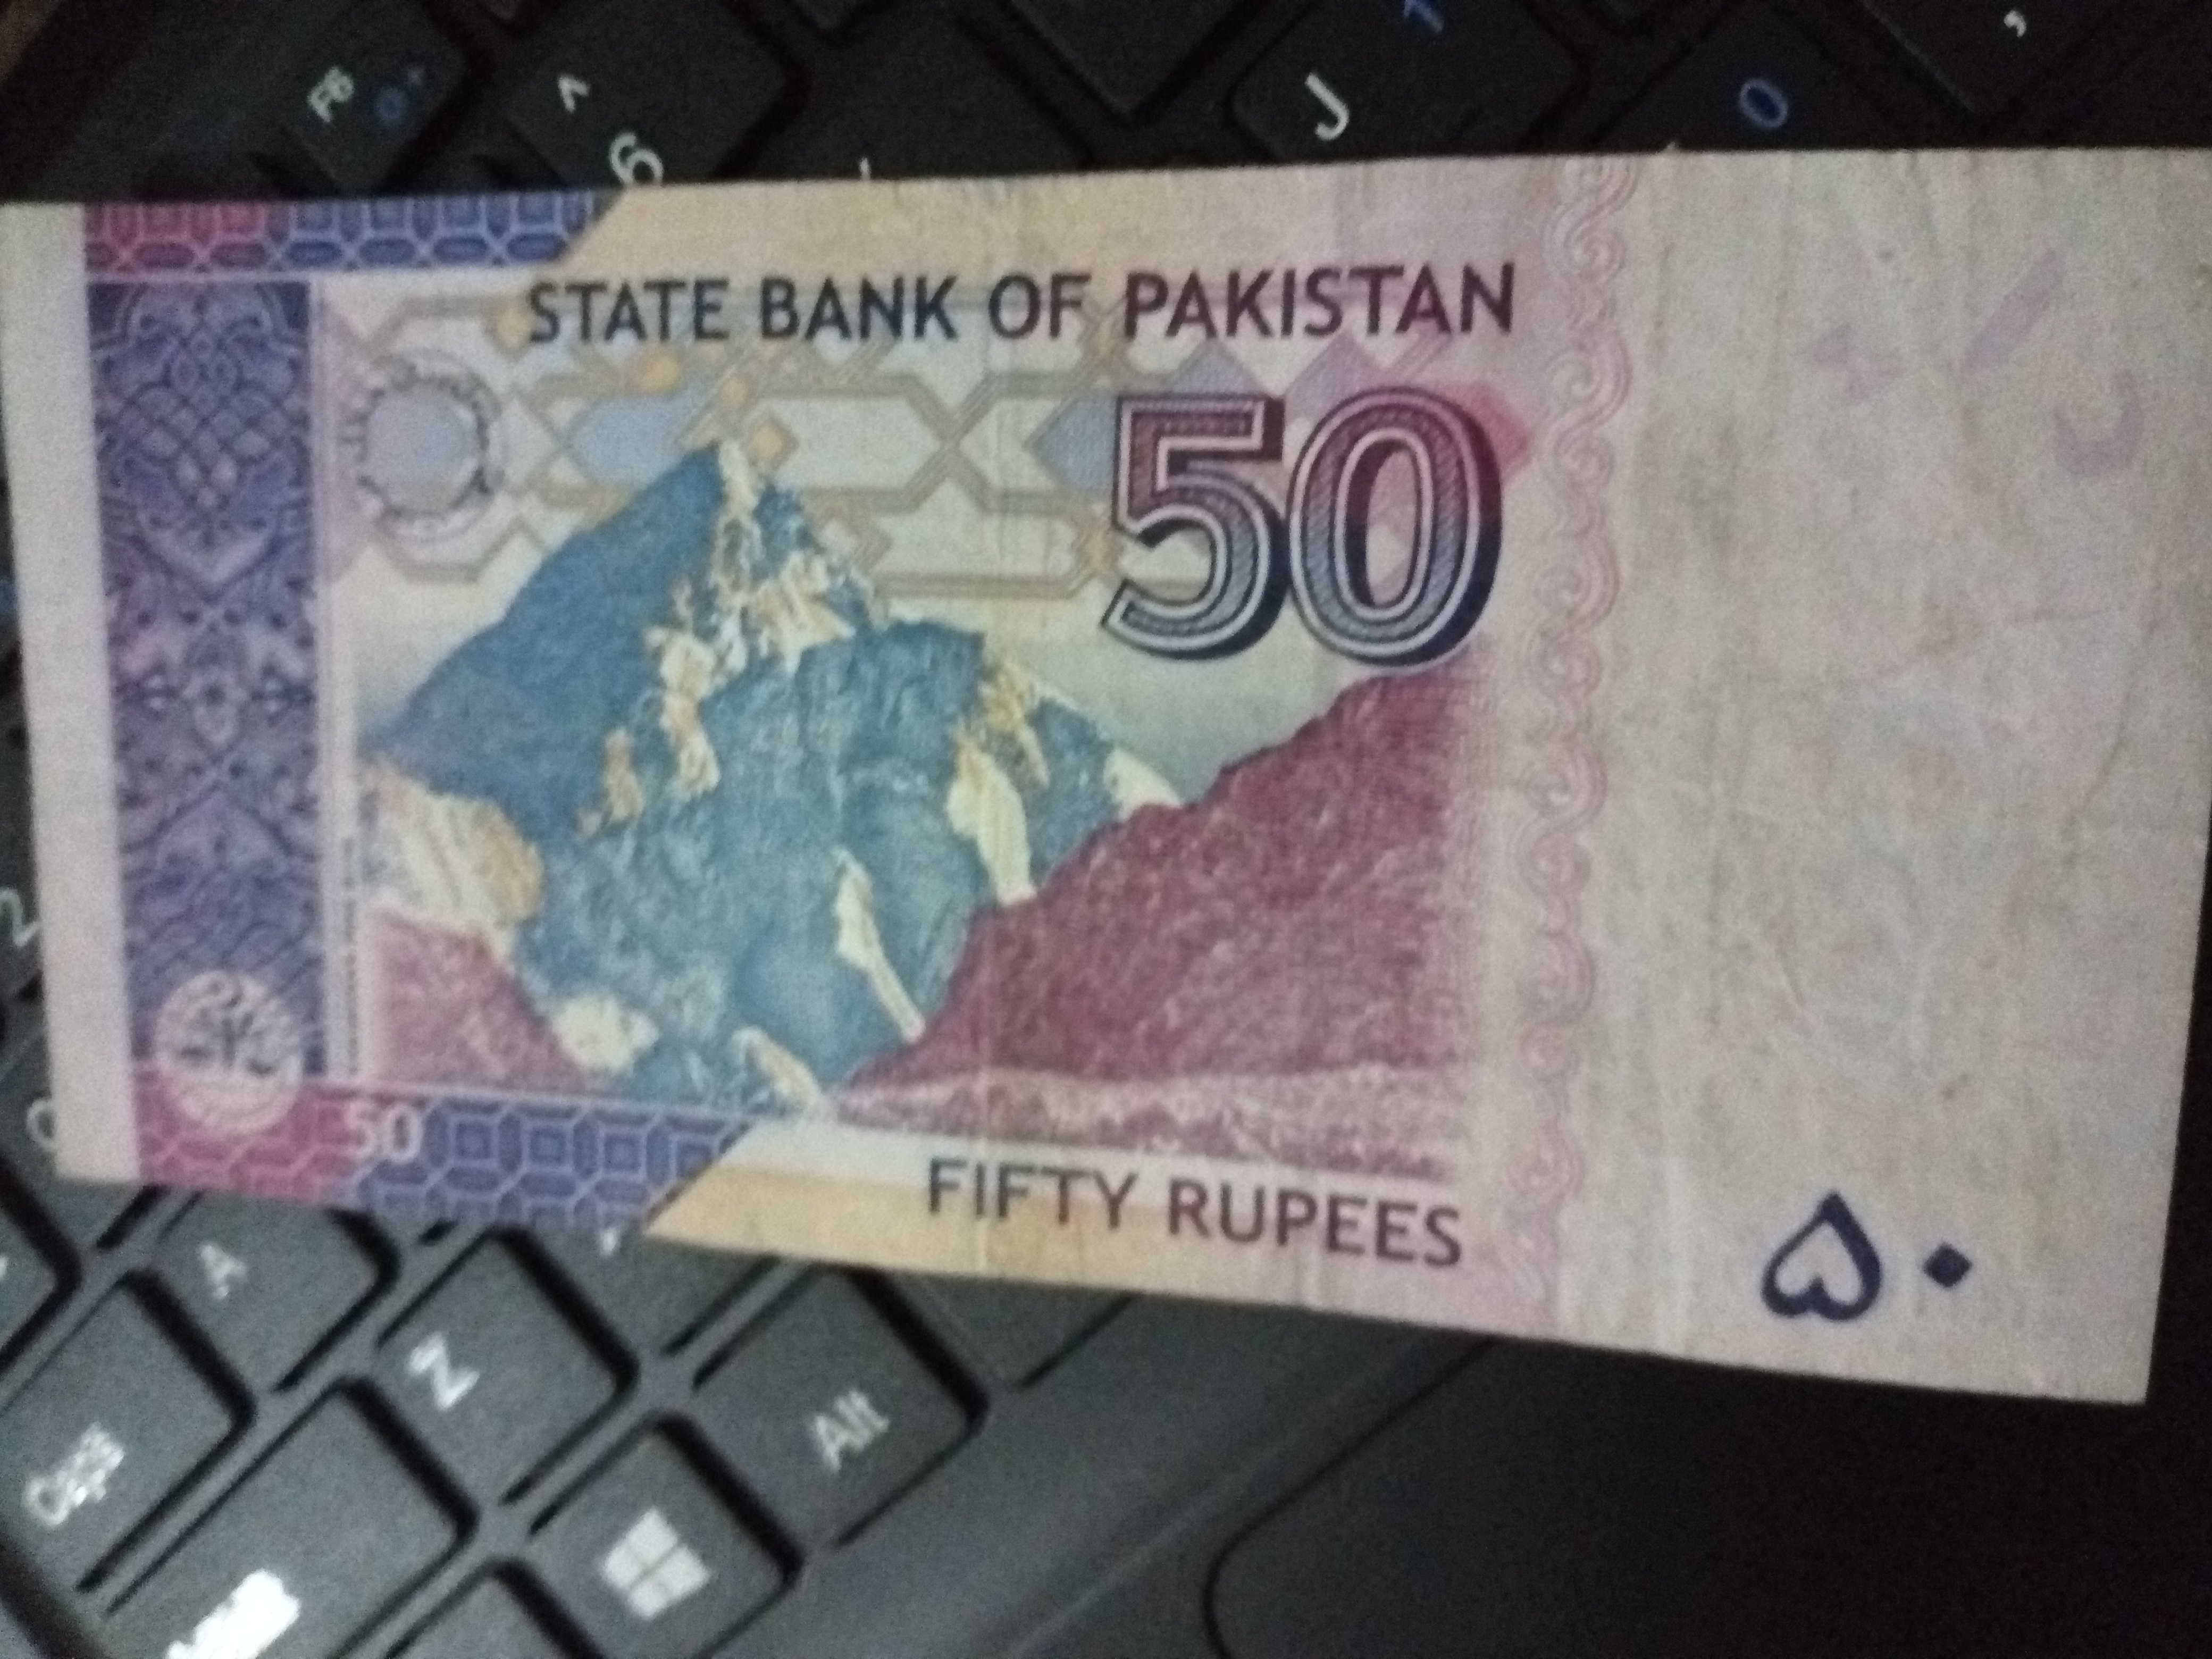50 rupee: (19, 166, 2158, 1436)
